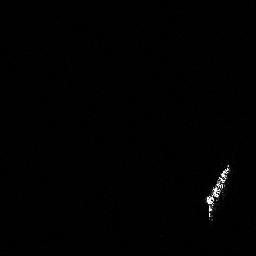ship: (201, 159, 236, 224)
